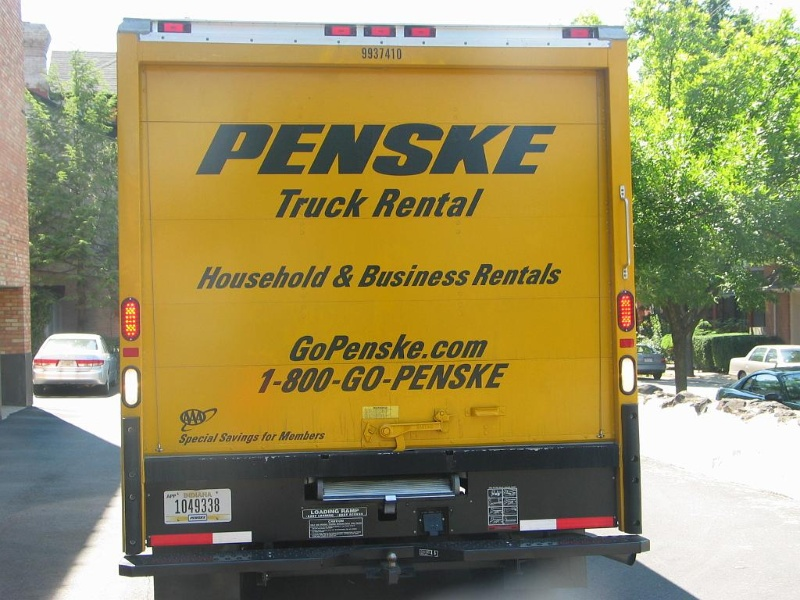licence plate: (161, 489, 233, 523)
